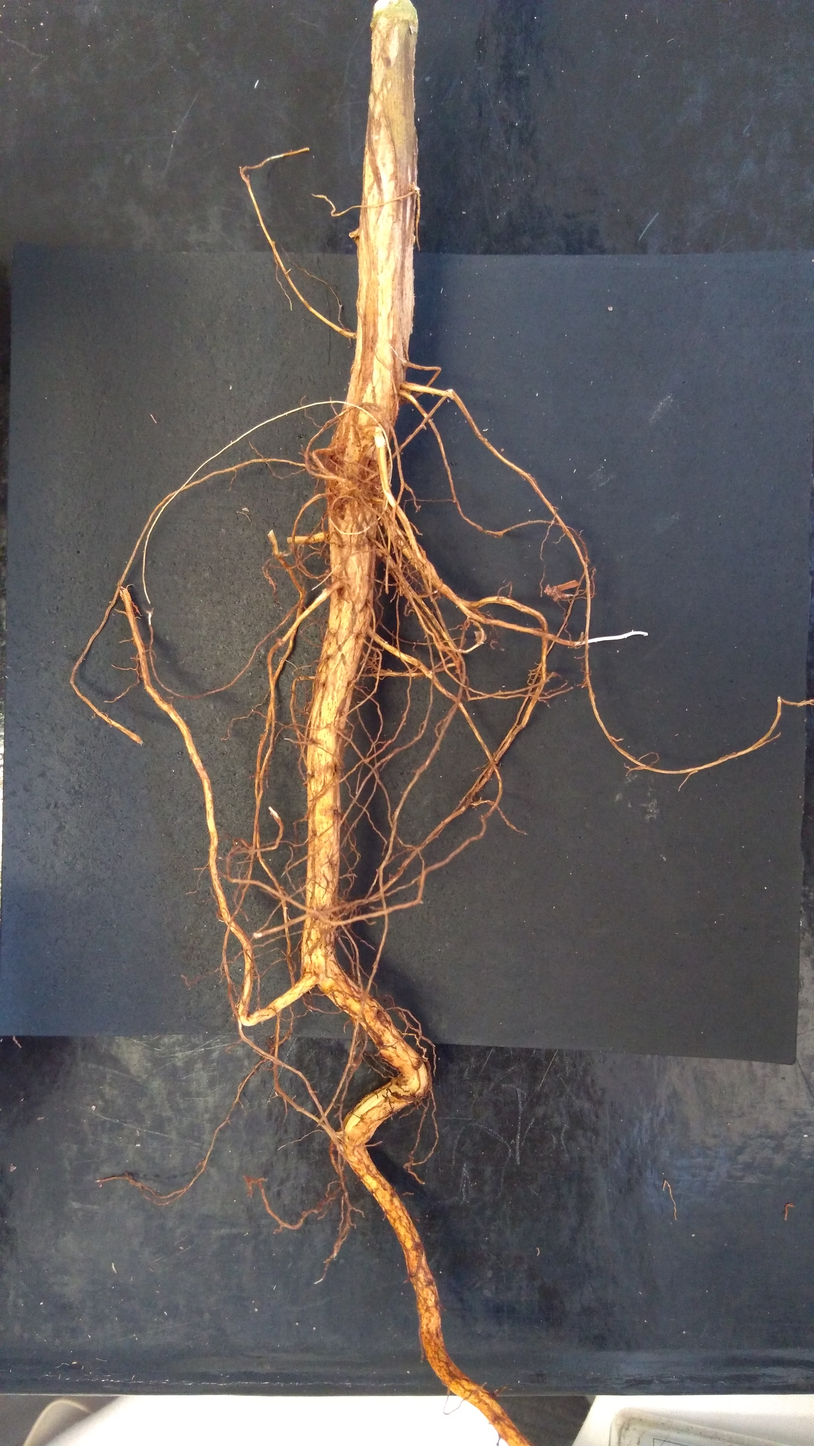nodule: (365, 456, 391, 501), (324, 474, 351, 510), (356, 402, 383, 429), (360, 425, 381, 451), (543, 584, 563, 602), (399, 380, 412, 407), (366, 513, 377, 540), (348, 226, 361, 248), (338, 899, 352, 916), (473, 629, 487, 644), (336, 1143, 347, 1153), (375, 548, 383, 559), (413, 185, 420, 195), (424, 1048, 427, 1052)
